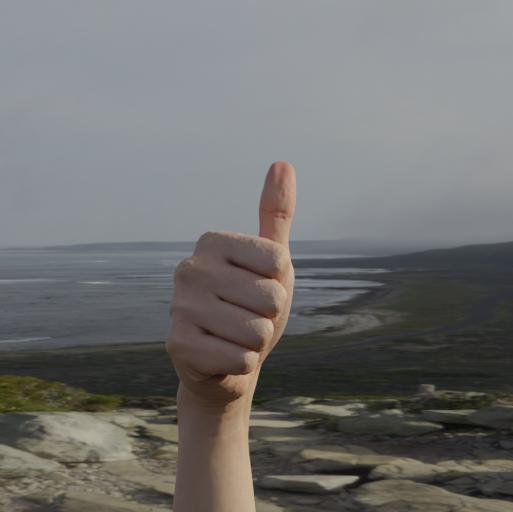thumbs-up: (162, 150, 299, 397)
